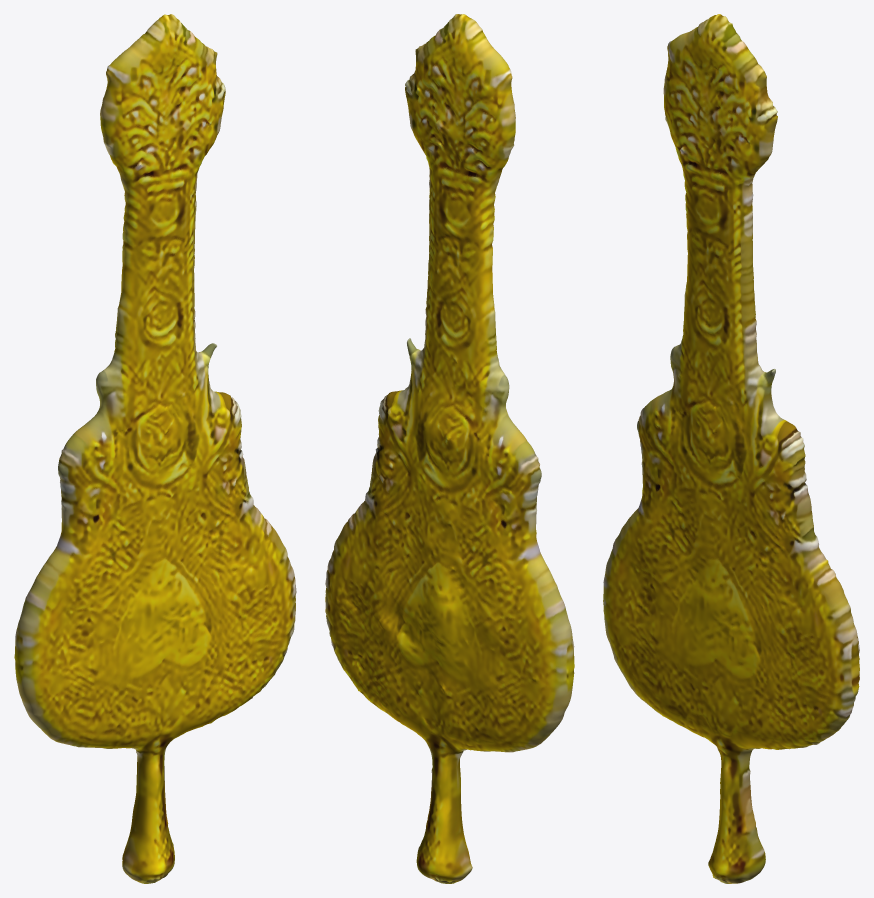
Rendered from kfl-2297.glb.
3 renders of one model, left to right at view 1: azimuth 30°, elevation 25°; view 2: azimuth 150°, elevation 25°; view 3: azimuth 330°, elevation 25°, orthographic. The views are drawn at different scales.
Visible parts, largest first — view 1: kfl-2297; view 2: kfl-2297; view 3: kfl-2297.
Part boxes in pixels (x1,y1,x2,y2): kfl-2297: (14, 14, 296, 883); kfl-2297: (325, 14, 574, 883); kfl-2297: (603, 14, 859, 883).
Bounding box in the file's own units: 0.3112 × 0.9878 × 0.0824.
Materials: 1 (1 with a texture image).
